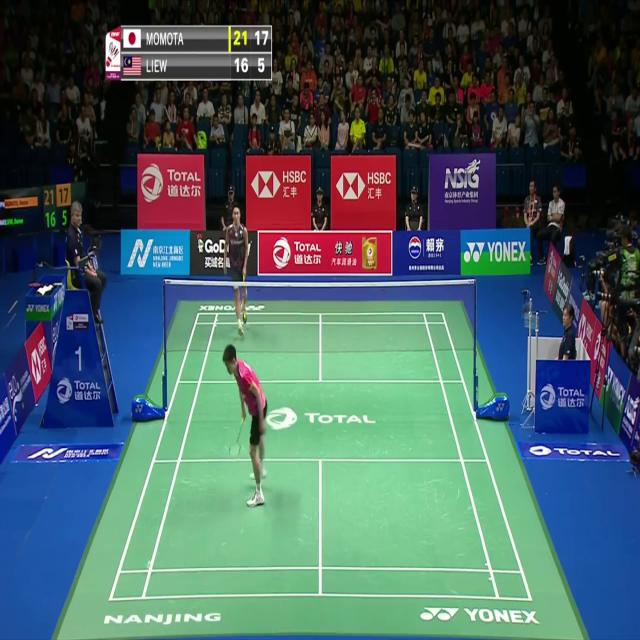Shuttlecock: (146, 559, 153, 570)
